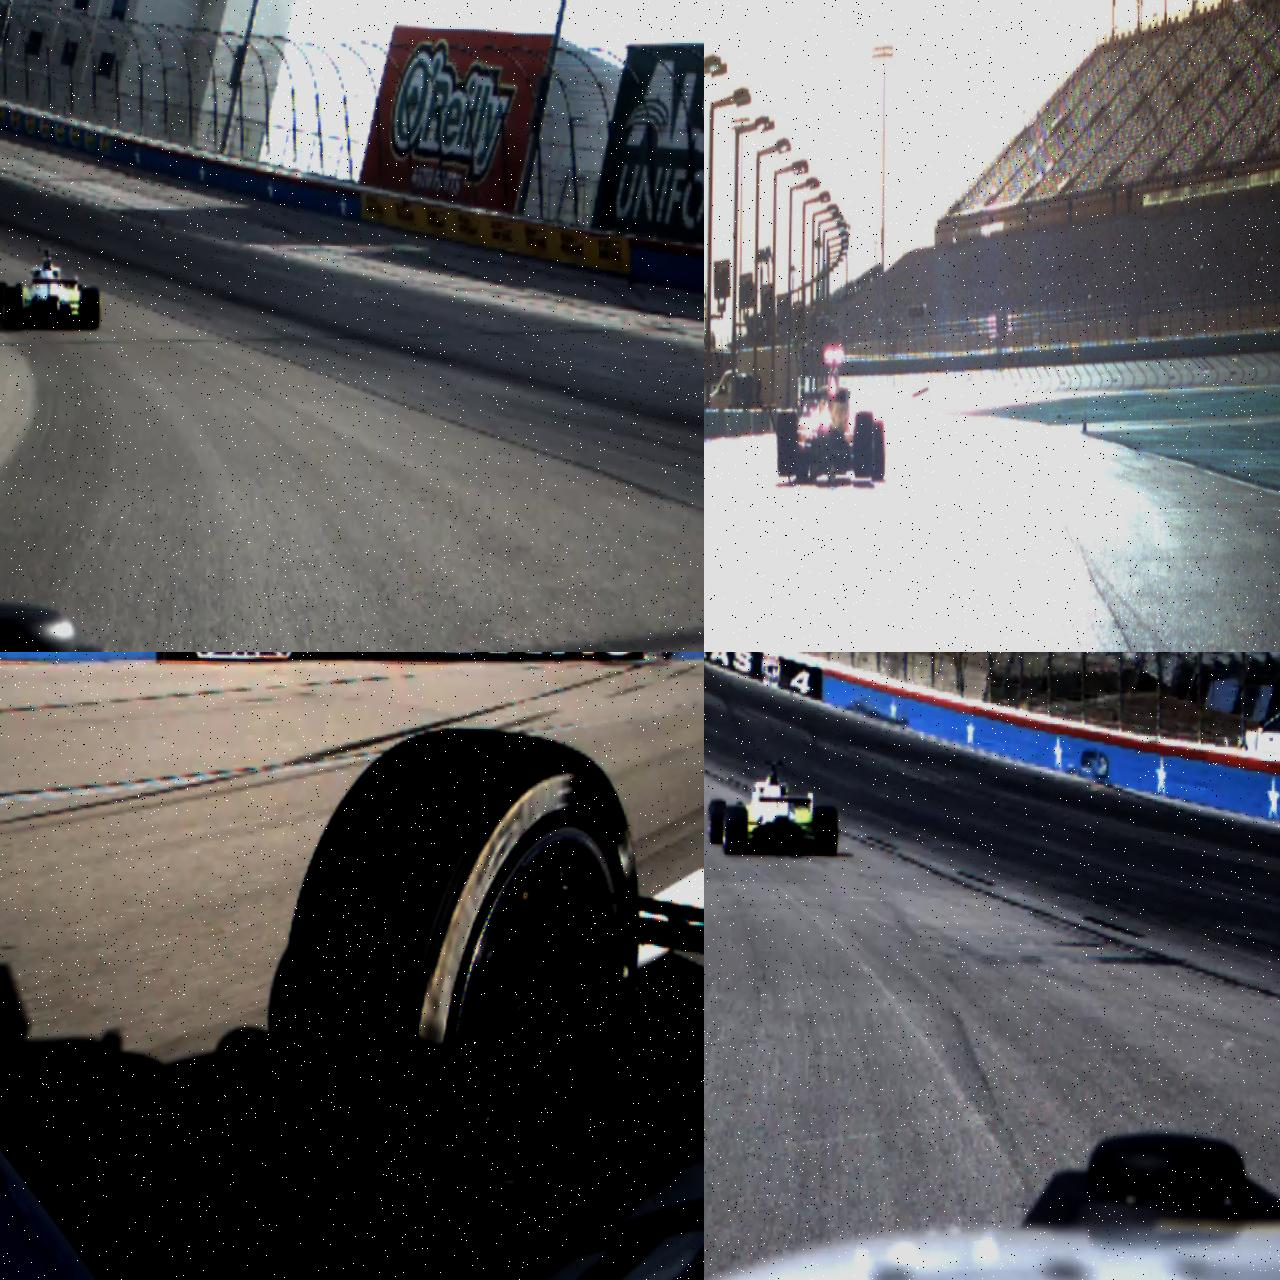AV: (776, 347, 888, 483), (707, 758, 840, 858), (0, 247, 101, 332)
Wheel: (282, 726, 640, 1234), (852, 411, 876, 475), (777, 409, 798, 477), (722, 806, 749, 856), (813, 806, 839, 856), (871, 421, 886, 482), (81, 286, 101, 332), (2, 286, 22, 331), (708, 799, 727, 845), (0, 280, 6, 322)
